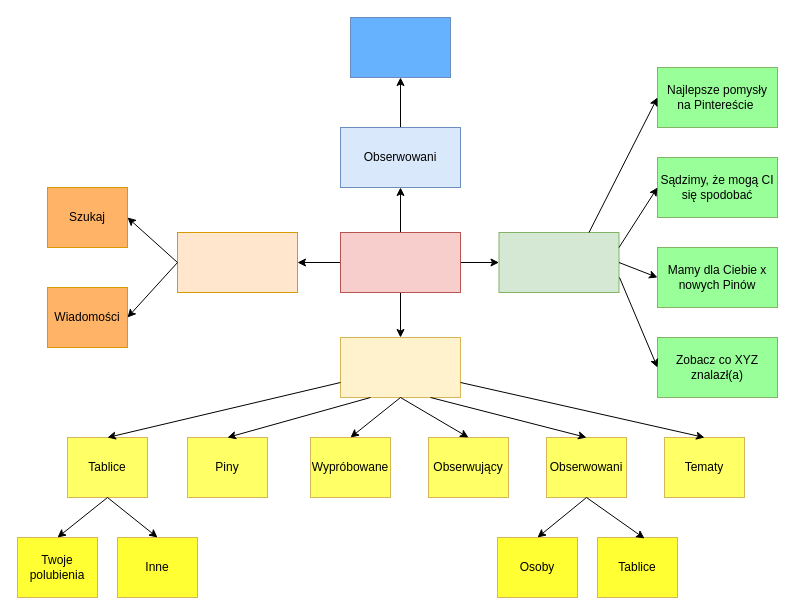
Image size: 795x615. Some labels were removed from this diagram. The centre of each missing label's shape, as x and y in pixels:
Obserwowane osoby - Zobacz tablicę: point 400,47
Pinterest: point 400,262
Powiadomienia: point 558,262
Strona główna: point 237,262
Zapisane: point 400,367
